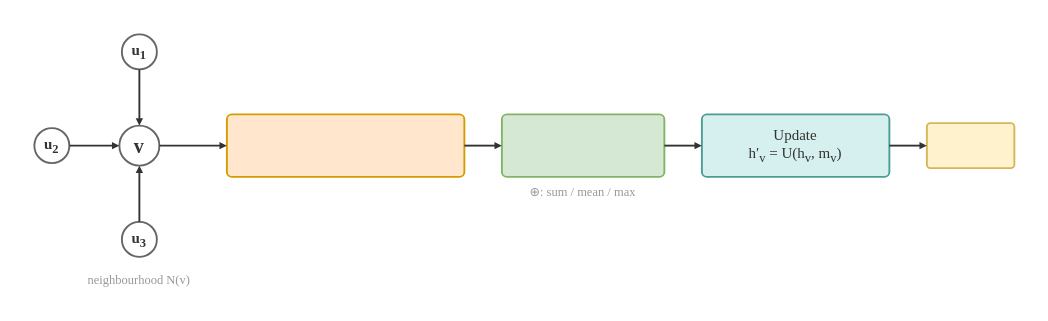
Image size: 1048x321. Some labels were removed from this diagram. Here are the shapes that lost their labels. From the top down, the box of each, then its label:
(225, 113, 465, 177): Messages m vu = M(h v , h u , e vu )
(500, 113, 665, 177): Aggregate m v = ⊕ u m vu
(925, 122, 1015, 168): h′ v
